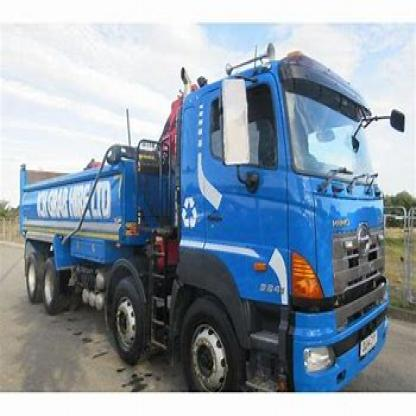dump_truck: (17, 43, 399, 392)
